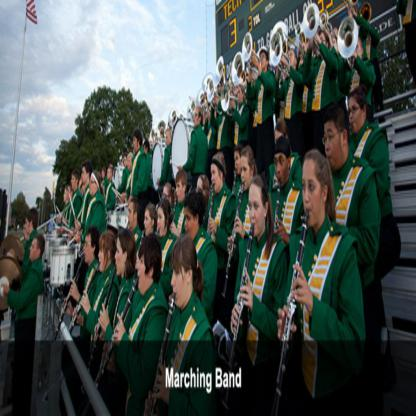face: (302, 163, 324, 227), (325, 122, 343, 171), (249, 186, 265, 238), (171, 261, 188, 308), (349, 97, 364, 134), (275, 151, 289, 187), (138, 252, 150, 293), (185, 206, 197, 238), (115, 237, 125, 274), (241, 157, 251, 190), (99, 243, 109, 273), (212, 163, 222, 192), (84, 233, 93, 264), (157, 208, 166, 237), (144, 210, 153, 236), (128, 204, 135, 229), (355, 37, 364, 56), (176, 180, 183, 203), (30, 239, 37, 261), (235, 153, 242, 174), (163, 188, 170, 209), (203, 179, 210, 200), (288, 51, 295, 70), (320, 35, 327, 53), (90, 174, 96, 194), (25, 217, 31, 235), (82, 167, 88, 184), (261, 53, 267, 70), (194, 109, 199, 128), (133, 136, 139, 151), (331, 39, 337, 54), (302, 36, 307, 54), (23, 223, 28, 240), (238, 87, 243, 104), (80, 181, 85, 196), (128, 157, 133, 171), (166, 133, 171, 146), (72, 174, 76, 190), (64, 189, 68, 203), (108, 169, 111, 181), (124, 157, 127, 168), (102, 170, 105, 179), (145, 145, 148, 154)
